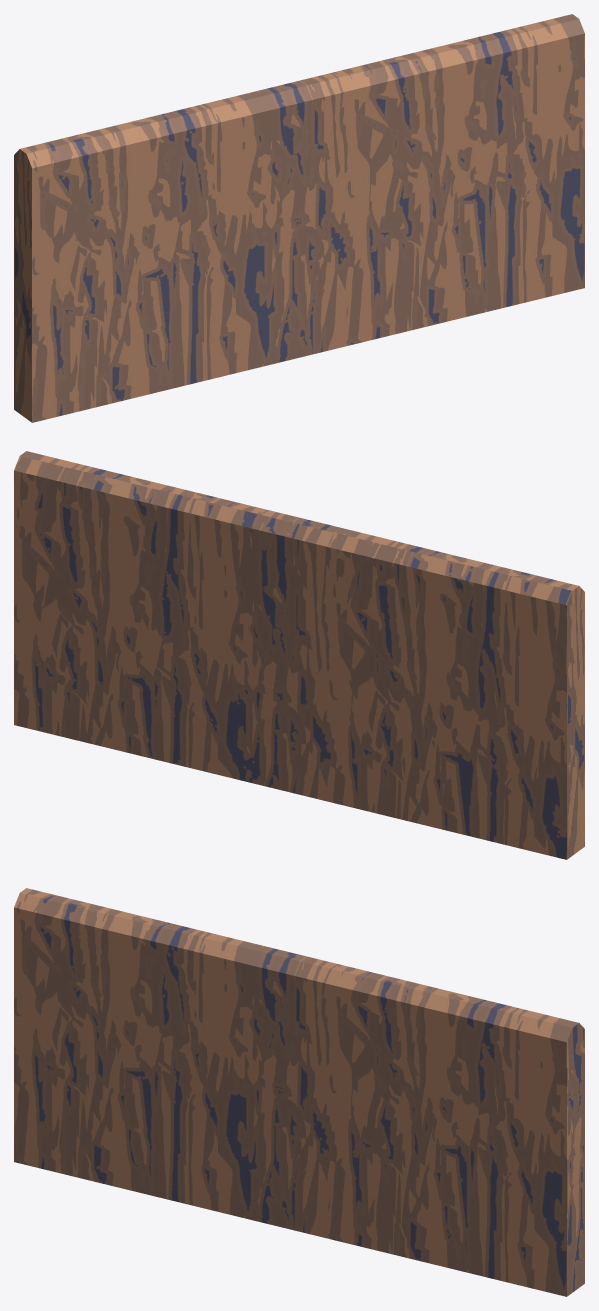
File: Mur1.fbx
3 views of the same model, one above another, from view 1: azimuth 30°, elevation 25°; view 2: azimuth 150°, elevation 25°; view 3: azimuth 330°, elevation 25° (orthographic).
Parts seen in each view (by area): view 1: Mur1; view 2: Mur1; view 3: Mur1.
Part boxes in pixels (<box>): Mur1: <box>14,14,584,422</box>; Mur1: <box>14,451,584,859</box>; Mur1: <box>14,888,584,1296</box>.
Size of the model in its own units: 39154 by 17928 by 2228.
